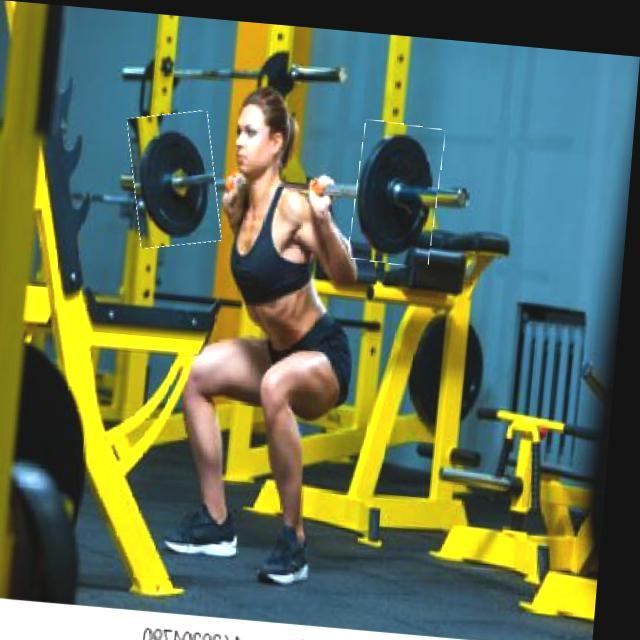barbell: (128, 106, 228, 248), (354, 114, 446, 260)
